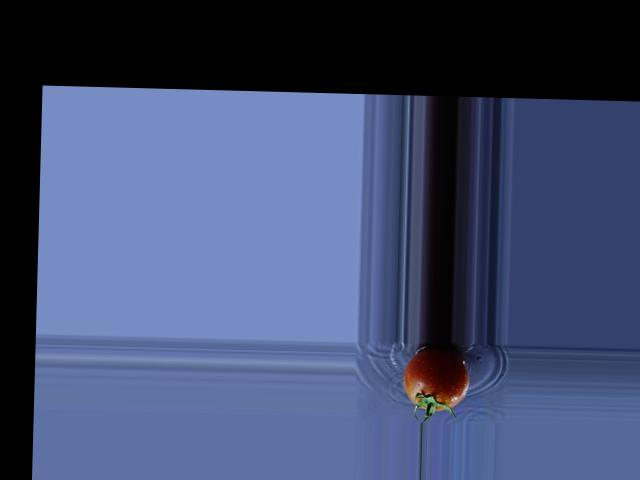tomato: (403, 346, 469, 410)
